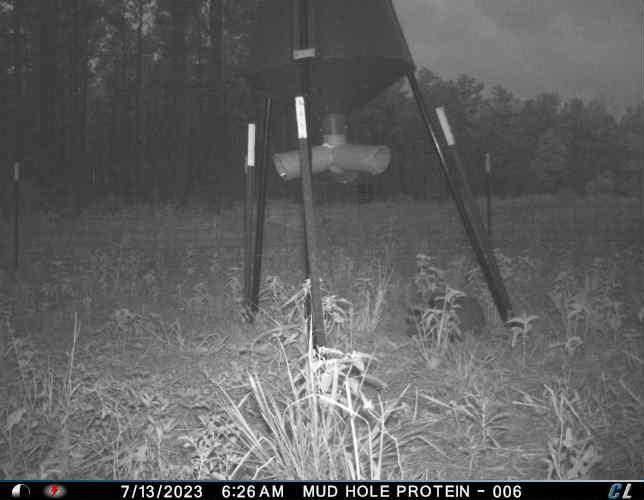Raccoon: (402, 288, 489, 350)
